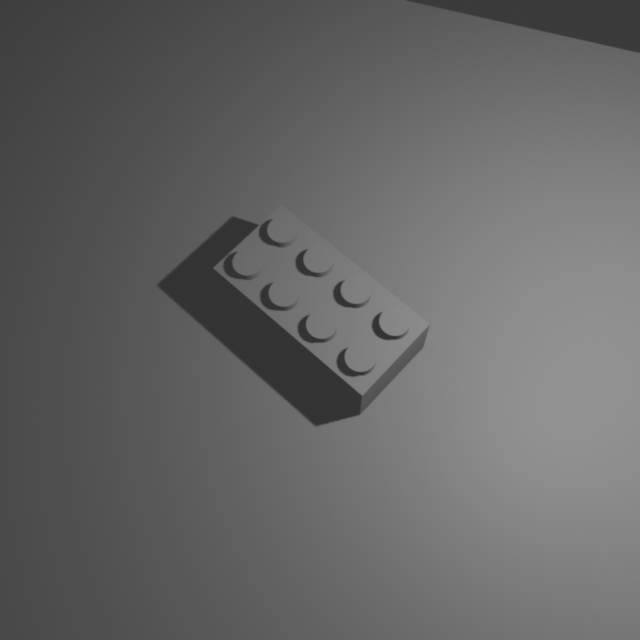lego_2x4: (212, 200, 431, 415)
